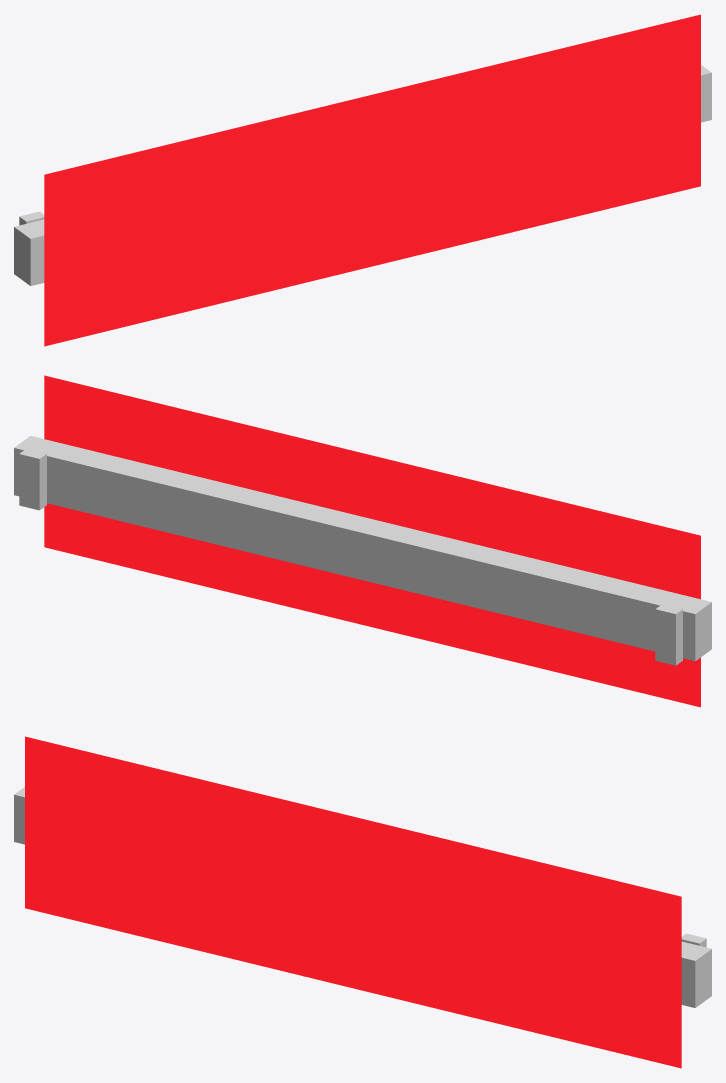
Rendered from sign_ramen_bar.glb.
The picture shows the model from 3 angles, top to bottom: view 1: azimuth 30°, elevation 25°; view 2: azimuth 150°, elevation 25°; view 3: azimuth 330°, elevation 25°; orthographic projection.
Visible parts, largest first — view 1: sign_ramen_bar_LOD0; view 2: sign_ramen_bar_LOD0; view 3: sign_ramen_bar_LOD0.
Boxes of the visible parts, x1,y1,x2,y2 form: sign_ramen_bar_LOD0: (14,14,711,346); sign_ramen_bar_LOD0: (14,375,711,707); sign_ramen_bar_LOD0: (14,736,711,1068).
Size of what is drawn, in the model's own units: 1.66 by 0.4 by 0.106.
